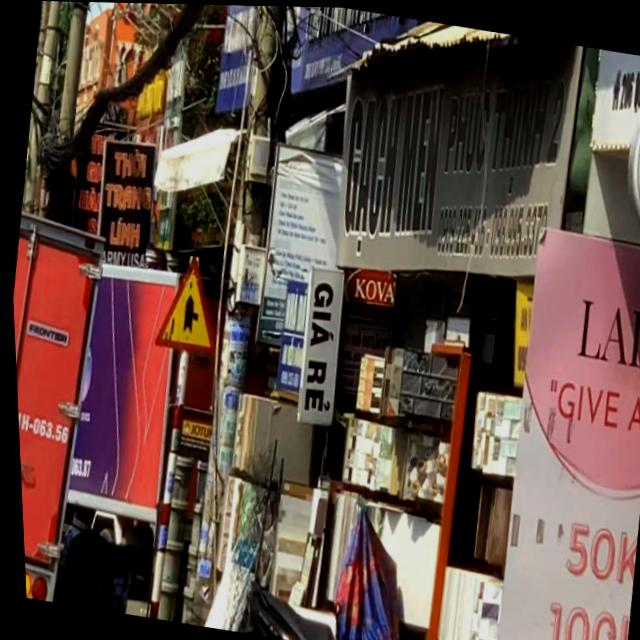Giao nhau voi duong khong uu tien ben phai: (148, 247, 225, 358)
